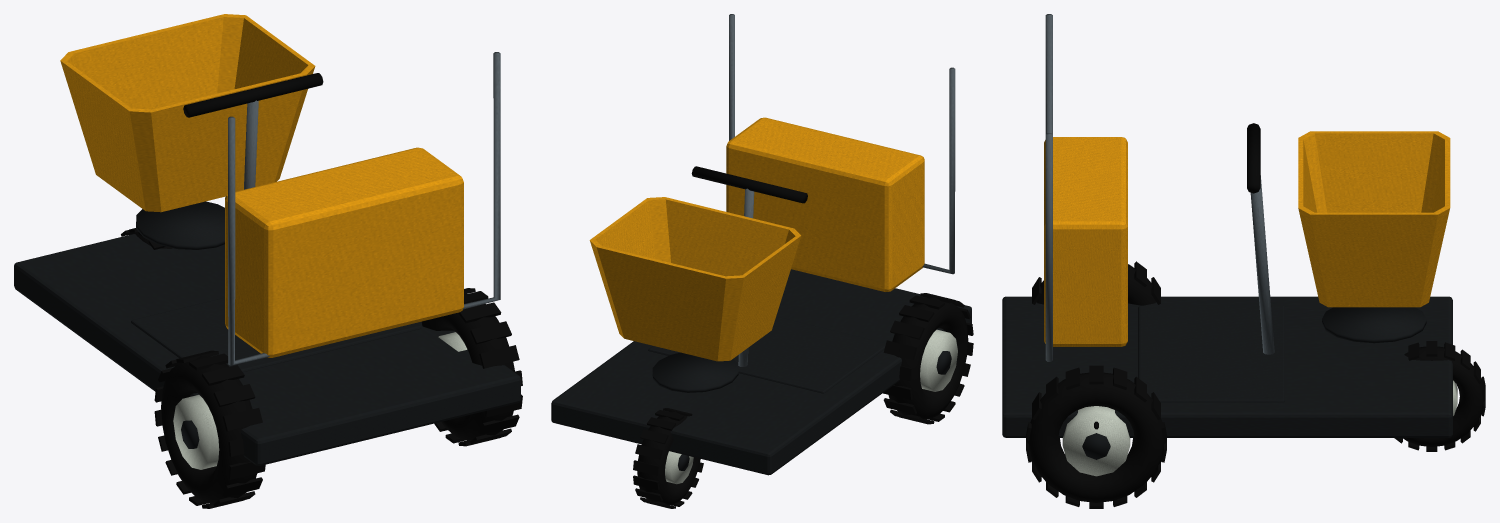
Rendered from RideOnSpreaderSprayer.gltf.
3 renders of one model, left to right at view 1: azimuth 30°, elevation 25°; view 2: azimuth 150°, elevation 25°; view 3: azimuth 270°, elevation 25°, orthographic. The views are drawn at different scales.
Visible parts, largest first — view 1: RideOnSpreaderSprayer__Body, RideOnSpreaderSprayer__Wheel_Rear-1, RideOnSpreaderSprayer__Wheel_Rear1, RideOnSpreaderSprayer__CutterRotor; view 2: RideOnSpreaderSprayer__Body, RideOnSpreaderSprayer__Wheel_Rear-1, RideOnSpreaderSprayer__Wheel_Front, RideOnSpreaderSprayer__CutterRotor; view 3: RideOnSpreaderSprayer__Body, RideOnSpreaderSprayer__Wheel_Rear1, RideOnSpreaderSprayer__Wheel_Front, RideOnSpreaderSprayer__CutterRotor, RideOnSpreaderSprayer__Wheel_Rear-1.
Part boxes in pixels (left/top/right/bottom): RideOnSpreaderSprayer__Body: left=14, top=14, right=520, bottom=465; RideOnSpreaderSprayer__Wheel_Rear-1: left=154, top=350, right=265, bottom=508; RideOnSpreaderSprayer__Wheel_Rear1: left=421, top=288, right=522, bottom=446; RideOnSpreaderSprayer__CutterRotor: left=136, top=201, right=224, bottom=249; RideOnSpreaderSprayer__Body: left=551, top=14, right=971, bottom=475; RideOnSpreaderSprayer__Wheel_Rear-1: left=883, top=293, right=973, bottom=424; RideOnSpreaderSprayer__Wheel_Front: left=633, top=408, right=703, bottom=508; RideOnSpreaderSprayer__CutterRotor: left=652, top=352, right=738, bottom=392; RideOnSpreaderSprayer__Body: left=1002, top=14, right=1452, bottom=437; RideOnSpreaderSprayer__Wheel_Rear1: left=1026, top=365, right=1166, bottom=508; RideOnSpreaderSprayer__Wheel_Front: left=1394, top=341, right=1485, bottom=451; RideOnSpreaderSprayer__CutterRotor: left=1322, top=307, right=1426, bottom=343; RideOnSpreaderSprayer__Wheel_Rear-1: left=1032, top=261, right=1160, bottom=305.
Bounding box in the file's own units: 1.1 × 1.38 × 1.63.
1 material, 1 textured.
